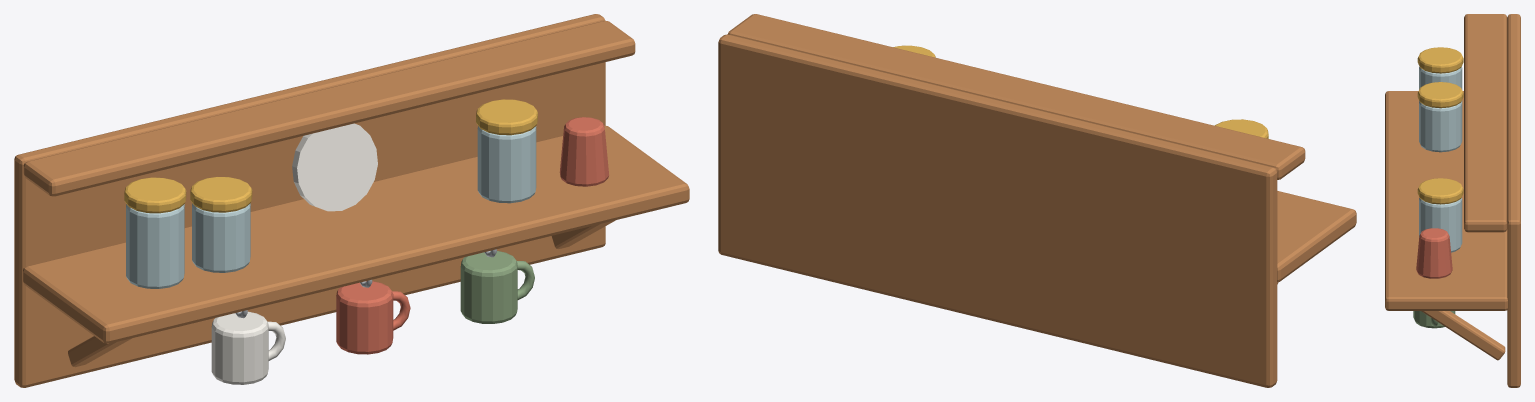
Rendered from hh_cat_kitchen_shelf.glb.
3 views of the same model, side by side, from view 1: azimuth 30°, elevation 25°; view 2: azimuth 150°, elevation 25°; view 3: azimuth 270°, elevation 25° (orthographic). The views are drawn at different scales.
Visible parts, largest first — view 1: shelf, back_board, cap_board, plate, jar, jar.002, mug.001, mug, mug.002, jar.001, jug, jar_lid (+4 smaller); view 2: back_board, cap_board, shelf, jar_lid; view 3: shelf, cap_board, back_board, jar.001, jug, jar.002, bracket.001, jar_lid, jar_lid.002, jar_lid.001, jar, mug.002.
Boxes of the visible parts, <box> form: shelf: <box>23,125,689,343</box>; back_board: <box>14,14,605,387</box>; cap_board: <box>23,20,635,196</box>; plate: <box>292,123,377,211</box>; jar: <box>126,204,184,288</box>; jar.002: <box>477,126,536,203</box>; mug.001: <box>336,281,393,354</box>; mug: <box>211,311,268,384</box>; mug.002: <box>460,250,517,323</box>; jar.001: <box>192,203,250,272</box>; jug: <box>559,117,609,186</box>; jar_lid: <box>124,177,186,213</box>; back_board: <box>718,34,1277,387</box>; cap_board: <box>727,14,1305,179</box>; shelf: <box>1277,191,1356,282</box>; jar_lid: <box>1215,119,1268,138</box>; shelf: <box>1385,91,1507,310</box>; cap_board: <box>1464,14,1507,232</box>; back_board: <box>1507,14,1520,387</box>; jar.001: <box>1419,101,1462,152</box>; jug: <box>1416,228,1452,278</box>; jar.002: <box>1419,198,1462,252</box>; bracket.001: <box>1421,311,1505,360</box>; jar_lid: <box>1417,47,1463,73</box>; jar_lid.002: <box>1417,178,1463,204</box>; jar_lid.001: <box>1417,82,1463,108</box>; jar: <box>1419,67,1462,101</box>; mug.002: <box>1413,311,1455,328</box>.
Bounding box in the file's own units: 0.8 × 0.3 × 0.22.
